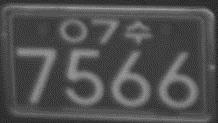0: (58, 16, 88, 44)
5: (65, 48, 105, 108)
6: (157, 49, 200, 110), (110, 49, 152, 108)
7: (14, 44, 57, 105), (90, 16, 119, 45)
수: (124, 17, 153, 45)
